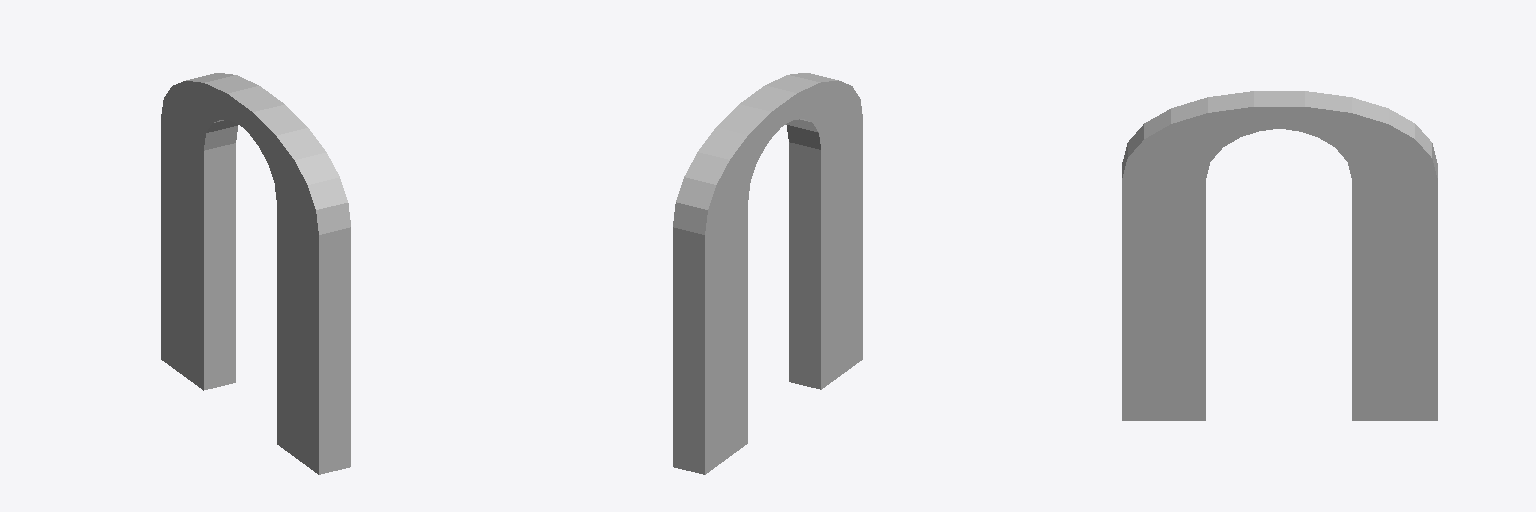
File: arco.obj
The picture shows the model from 3 angles: view 1: azimuth 30°, elevation 25°; view 2: azimuth 150°, elevation 25°; view 3: azimuth 270°, elevation 25°; orthographic projection.
Parts seen in each view (by area): view 1: arco_Material; view 2: arco_Material; view 3: arco_Material.
Boxes of the visible parts, x1,y1,x2,y2 form: arco_Material: [161, 73, 350, 474]; arco_Material: [673, 73, 862, 474]; arco_Material: [1122, 91, 1437, 420].
Size of the model in its own units: 0.7785 by 7.23 by 6.6.